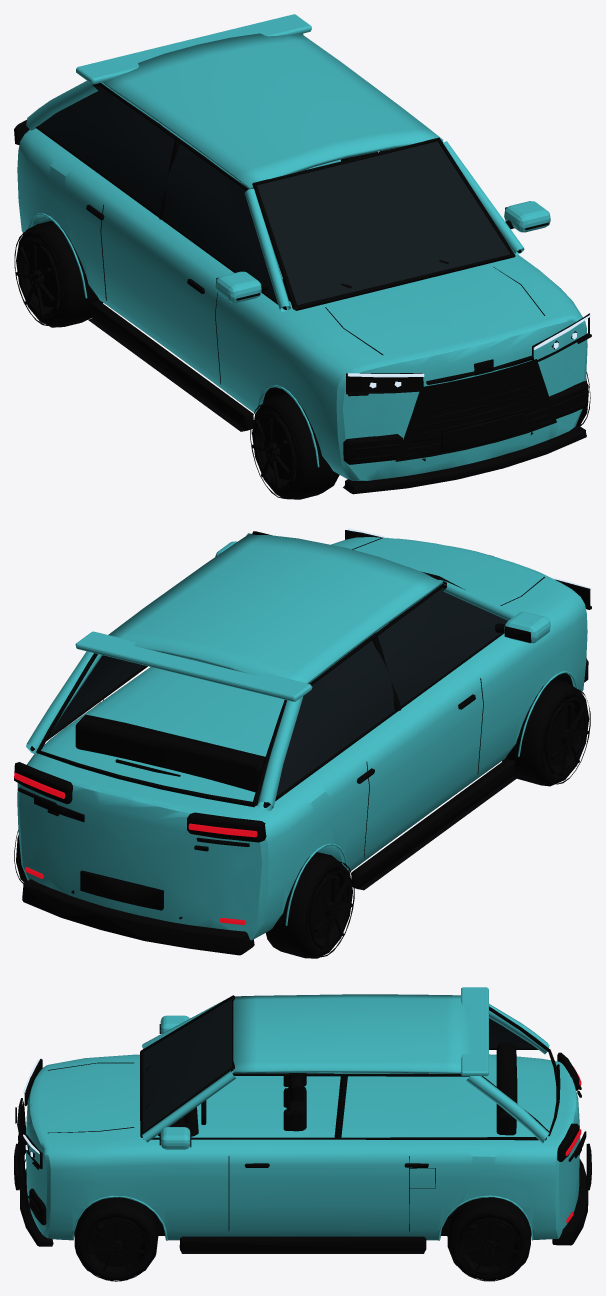
File: axia-mid.glb
The picture shows the model from 3 angles, top to bottom: view 1: azimuth 30°, elevation 25°; view 2: azimuth 150°, elevation 25°; view 3: azimuth 270°, elevation 25°; orthographic projection. The views are drawn at different scales.
Parts seen in each view (by area): view 1: chassis.001__Automotive clearcoat, chassis.001__Solar glass, chassis.001__Vehicle detail atlas, wheel_FL.001__Vehicle detail atlas, wheel_RL.001__Vehicle detail atlas, chassis.001__White LED optics; view 2: chassis.001__Automotive clearcoat, chassis.001__Vehicle detail atlas, chassis.001__Solar glass, wheel_RL.001__Vehicle detail atlas, wheel_FL.001__Vehicle detail atlas, chassis.001__Red LED optics; view 3: chassis.001__Automotive clearcoat, chassis.001__Vehicle detail atlas, chassis.001__Solar glass, wheel_FR.001__Vehicle detail atlas, wheel_RR.001__Vehicle detail atlas.
Boxes of the visible parts, x1,y1,x2,y2 form: chassis.001__Automotive clearcoat: (17,14,587,480); chassis.001__Solar glass: (39,85,510,308); chassis.001__Vehicle detail atlas: (14,83,589,494); wheel_FL.001__Vehicle detail atlas: (250,393,339,499); wheel_RL.001__Vehicle detail atlas: (14,221,102,327); chassis.001__White LED optics: (347,315,590,388); chassis.001__Automotive clearcoat: (17,533,587,940); chassis.001__Vehicle detail atlas: (14,530,590,955); chassis.001__Solar glass: (50,587,507,796); wheel_RL.001__Vehicle detail atlas: (266,852,354,958); wheel_FL.001__Vehicle detail atlas: (502,679,590,786); chassis.001__Red LED optics: (14,772,257,924); chassis.001__Automotive clearcoat: (26,987,580,1240); chassis.001__Vehicle detail atlas: (14,995,591,1253); chassis.001__Solar glass: (143,999,534,1132); wheel_FR.001__Vehicle detail atlas: (74,1197,158,1281); wheel_RR.001__Vehicle detail atlas: (447,1197,531,1281).
Bounding box in the file's own units: 1.99 × 1.52 × 3.91.
Materials: 8 (6 with a texture image).
